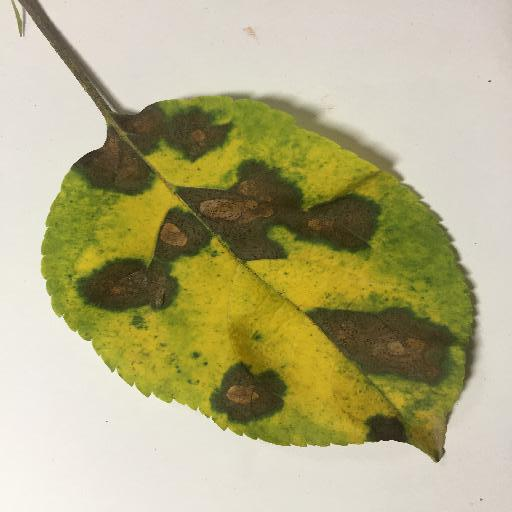Brown_Spot: (193, 188, 366, 259), (314, 312, 456, 380), (109, 116, 220, 153), (213, 369, 282, 420), (138, 209, 205, 255), (77, 270, 166, 304), (83, 153, 146, 192), (356, 411, 402, 435)
